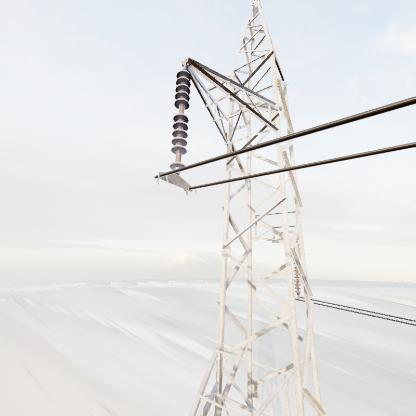insulator: (170, 69, 194, 174)
